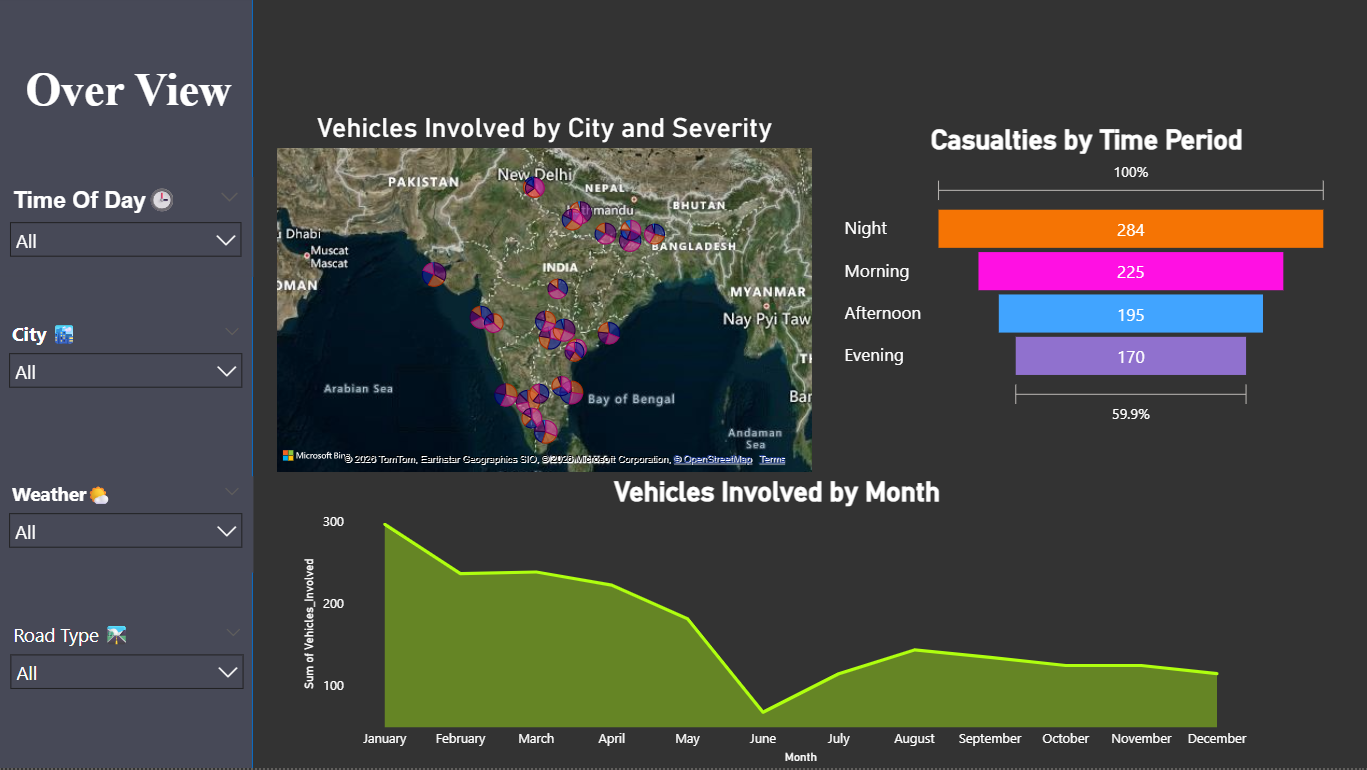

This screenshot's page, from the dashboard's own definition file:
{"tool":"powerbi","page":{"name":"Page weather and month analysis","canvas":[1280,720],"ordinal":2},"visuals":[{"type":"map","title":"Vehicles Involved by City and Severity","fields":{"Category":["cleaned_accidents.City"],"Series":["cleaned_accidents.Severity"],"Size":["Sum(cleaned_accidents.Vehicles_Involved)"]},"box":[255,108.8,507.5,338.8],"z":0},{"type":"areaChart","title":"Vehicles Involved by Month","fields":{"Category":["cleaned_accidents.Accident_Date.Variation.Date Hierarchy.Month"],"Y":["Sum(cleaned_accidents.Vehicles_Involved)"]},"box":[278.8,447.5,891.2,272.5],"z":1000},{"type":"funnel","title":"Casualties by Time Period","fields":{"Category":["cleaned_accidents.Time_Period"],"Y":["Sum(cleaned_accidents.Casualties)"]},"box":[782.6,119.8,460.5,286],"z":2000},{"type":"shape","box":[0,0,237.2,720.9],"z":3000},{"type":"textbox","box":[5.8,58.1,231.4,76.7],"z":4000},{"type":"slicer","fields":{"Values":["cleaned_accidents.Time_Period"]},"box":[0,169.8,237.2,91.9],"z":5000},{"type":"slicer","fields":{"Values":["cleaned_accidents.Weather"]},"box":[0,447.7,237.2,89.5],"z":6000},{"type":"slicer","fields":{"Values":["cleaned_accidents.Road_Type"]},"box":[1.2,579.1,237.2,83.7],"z":7000},{"type":"slicer","fields":{"Values":["cleaned_accidents.City"]},"box":[0,298.8,237.2,93],"z":8000}]}

Visuals, with their boxes on the page's 1280x720 design canvas (x1, y1, x2, y2). These are canvas units, not pixel positions in the 1367x770 screenshot, which may show the page scaled, cropped or inside an application window:
"Vehicles Involved by City and Severity" map: (left=255, top=109, right=762, bottom=448)
"Vehicles Involved by Month" areaChart: (left=279, top=448, right=1170, bottom=720)
"Casualties by Time Period" funnel: (left=783, top=120, right=1243, bottom=406)
shape: (left=0, top=0, right=237, bottom=721)
textbox: (left=6, top=58, right=237, bottom=135)
slicer - cleaned_accidents.Time_Period: (left=0, top=170, right=237, bottom=262)
slicer - cleaned_accidents.Weather: (left=0, top=448, right=237, bottom=537)
slicer - cleaned_accidents.Road_Type: (left=1, top=579, right=238, bottom=663)
slicer - cleaned_accidents.City: (left=0, top=299, right=237, bottom=392)
